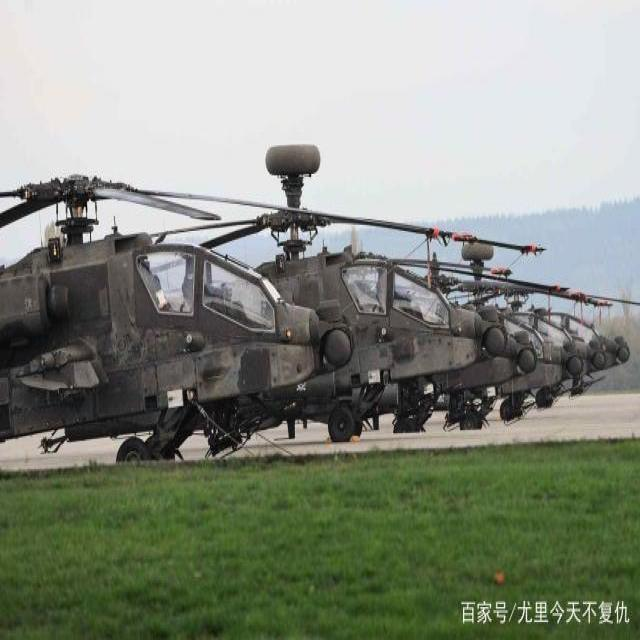MIL_HELO: (0, 147, 453, 462), (195, 135, 510, 436), (346, 182, 546, 428)
